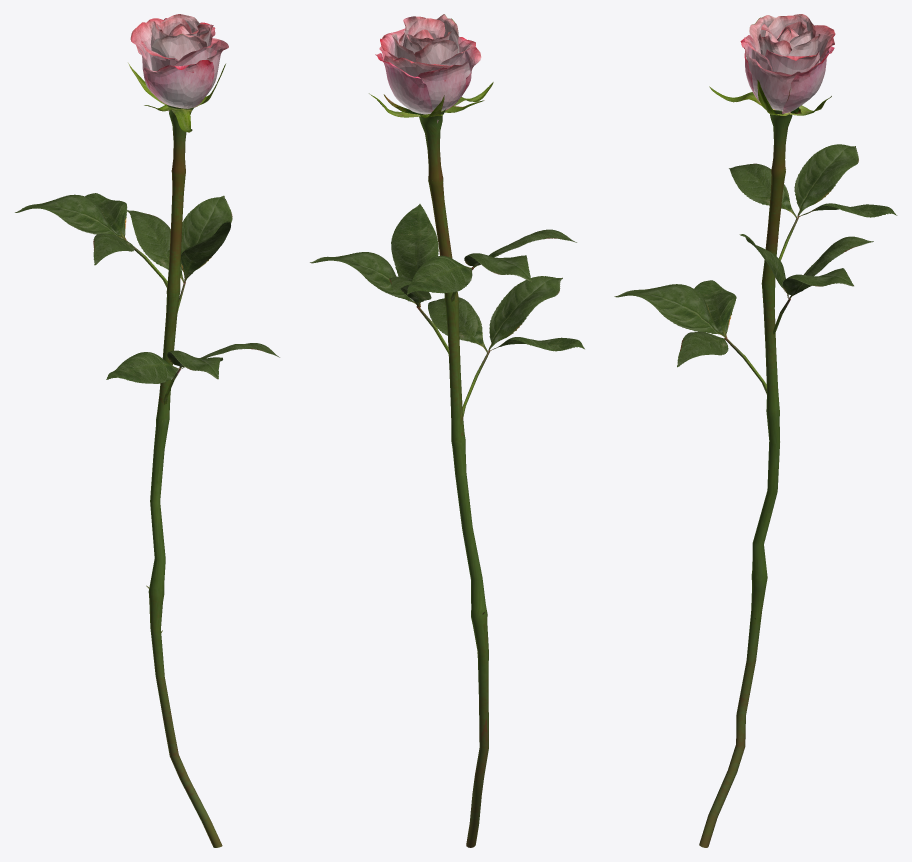
3 views of the same model, side by side, from view 1: azimuth 30°, elevation 25°; view 2: azimuth 150°, elevation 25°; view 3: azimuth 270°, elevation 25° (orthographic). The views are drawn at different scales.
Parts seen in each view (by area): view 1: AM108_068_09_AM108_068_01_0; view 2: AM108_068_09_AM108_068_01_0; view 3: AM108_068_09_AM108_068_01_0.
Boxes of the visible parts, box(x1,y1,x2,y2) form: AM108_068_09_AM108_068_01_0: box(15, 14, 279, 847); AM108_068_09_AM108_068_01_0: box(310, 14, 584, 847); AM108_068_09_AM108_068_01_0: box(614, 14, 897, 847).
Bounding box in the file's own units: 5.88 × 21.37 × 6.67.
1 material, 1 textured.
